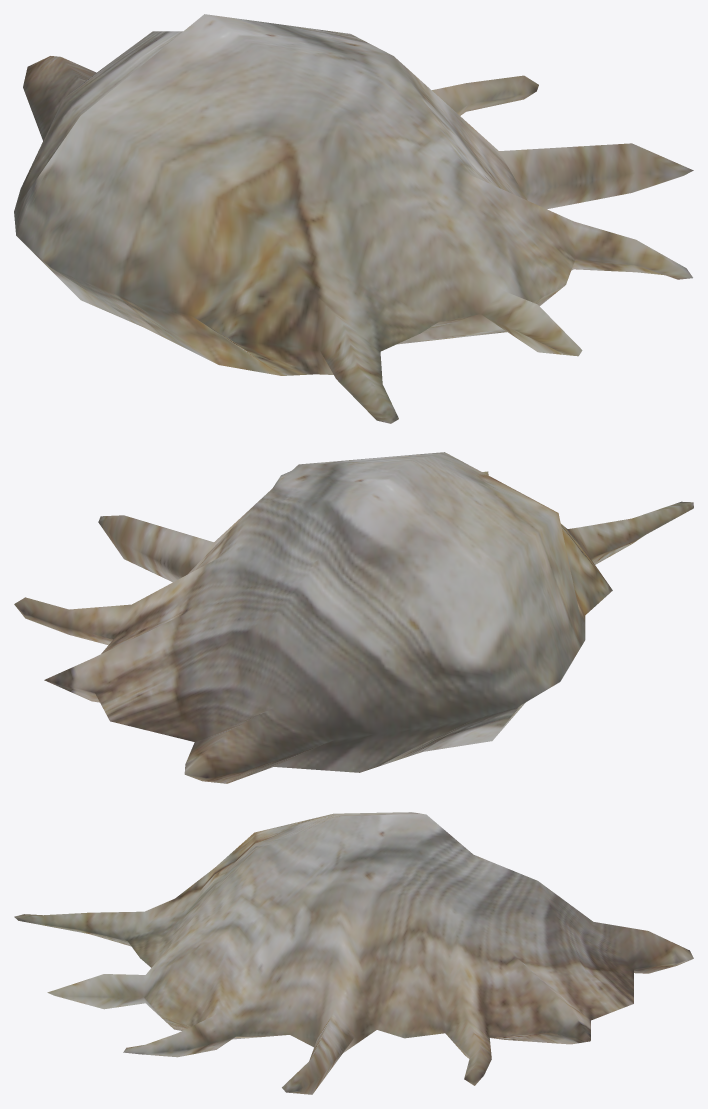
Rendered from SeaShell-07_LOD0_FattooCreater.glb.
3 renders of one model, top to bottom at view 1: azimuth 30°, elevation 25°; view 2: azimuth 150°, elevation 25°; view 3: azimuth 270°, elevation 25°, orthographic. The views are drawn at different scales.
Visible parts, largest first — view 1: SeaShell-07_high; view 2: SeaShell-07_high; view 3: SeaShell-07_high.
Part boxes in pixels (left/top/right/bottom): SeaShell-07_high: left=14, top=14, right=693, bottom=423; SeaShell-07_high: left=14, top=452, right=693, bottom=783; SeaShell-07_high: left=14, top=812, right=693, bottom=1094.
Bounding box in the file's own units: 0.0198 × 0.00803 × 0.027.
1 material, 1 textured.
